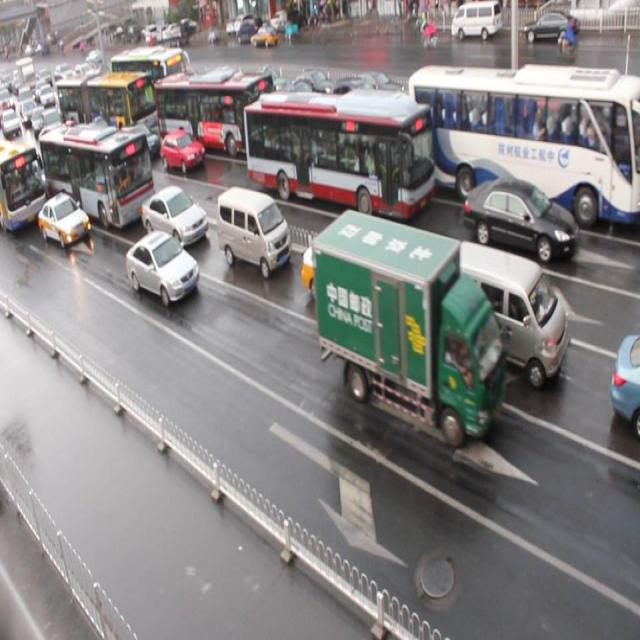bus: (310, 208, 501, 440)
car: (461, 176, 578, 264), (300, 228, 404, 321), (126, 228, 198, 304), (141, 185, 208, 250), (38, 192, 91, 247), (160, 128, 205, 172), (116, 123, 160, 164)
truck: (440, 240, 568, 386), (216, 186, 292, 276)
van: (405, 67, 640, 226), (242, 90, 433, 218), (38, 121, 156, 232), (154, 70, 274, 160), (58, 71, 158, 132), (1, 134, 46, 226)
